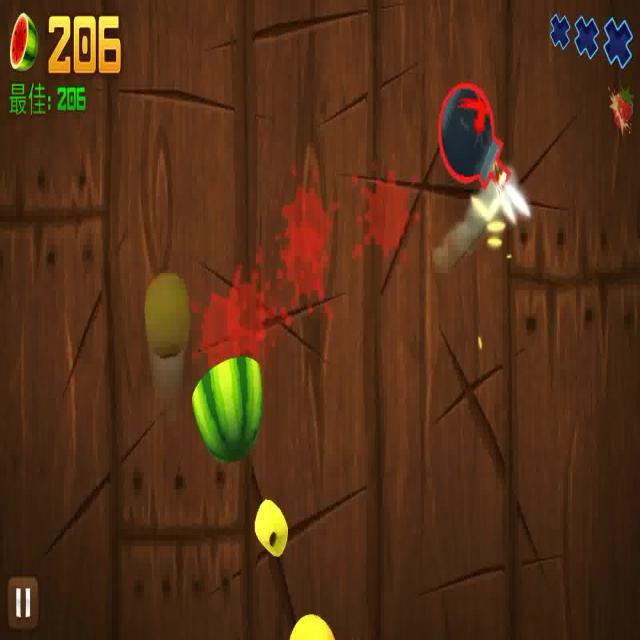bomb: (437, 74, 534, 242)
fruit: (192, 355, 260, 463), (143, 277, 190, 356), (251, 500, 293, 561), (280, 612, 335, 640)
